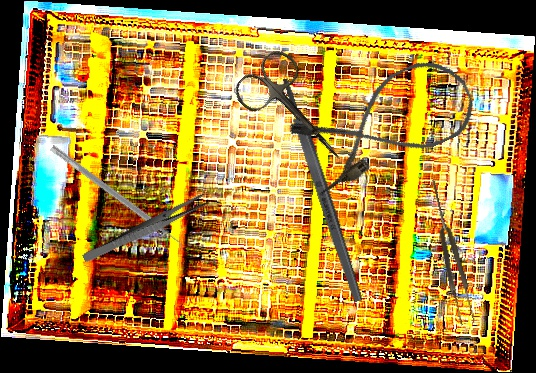Cannula: (285, 47, 486, 198)
Dressing Forceps: (81, 191, 210, 267)
Iris Scissors: (229, 43, 364, 184)
Scalpel Handle: (279, 76, 365, 304)
Spatula Surgical: (45, 144, 189, 254)
Tissue Forceps: (425, 177, 477, 327)
